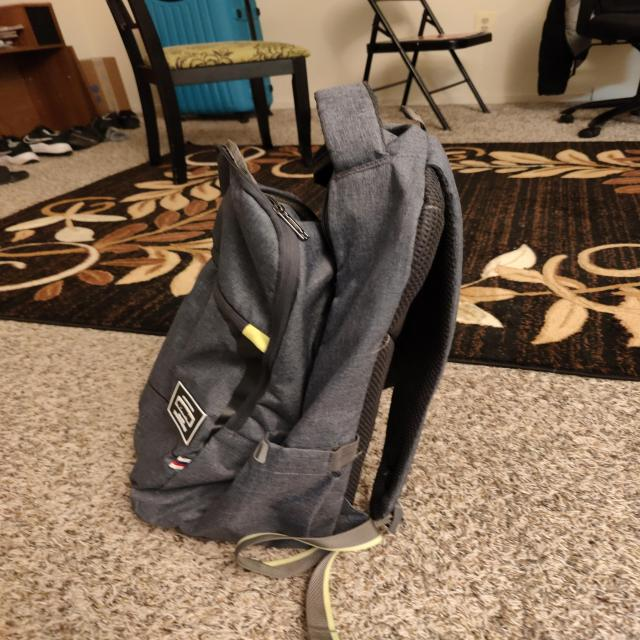bag: (154, 84, 460, 564)
